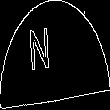N_S: (43, 28, 67, 82)
